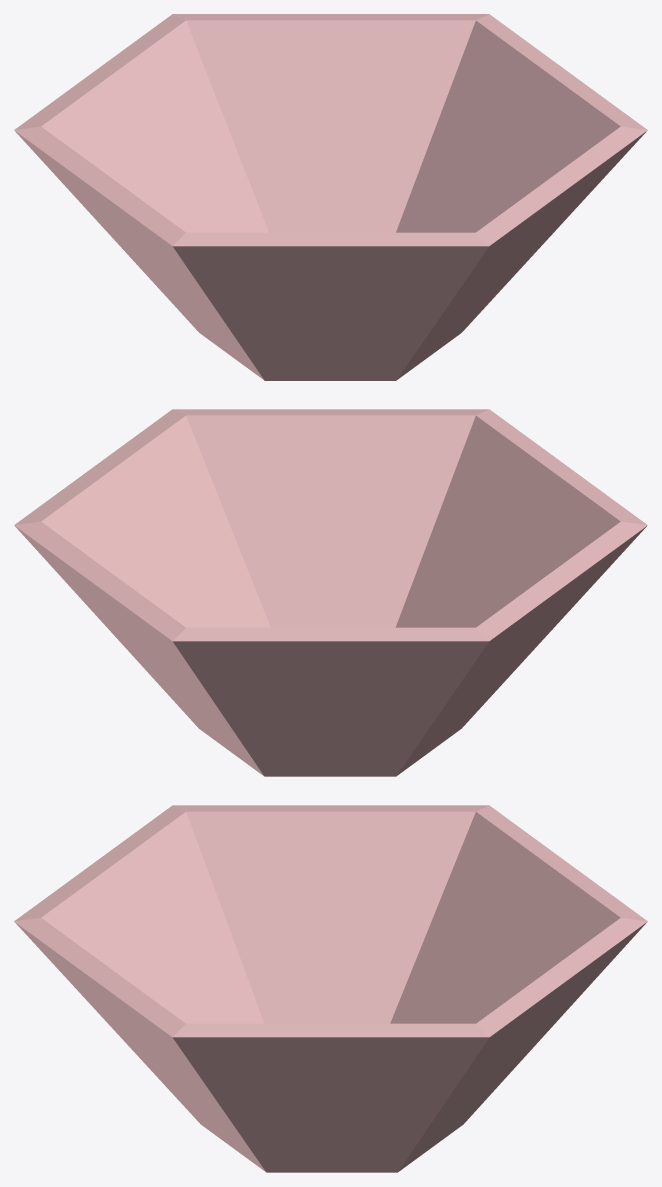
File: BowlSmall.fbx
The picture shows the model from 3 angles, top to bottom: view 1: azimuth 30°, elevation 25°; view 2: azimuth 150°, elevation 25°; view 3: azimuth 270°, elevation 25°; orthographic projection.
Visible parts, largest first — view 1: BowlSmall; view 2: BowlSmall; view 3: BowlSmall.
Boxes of the visible parts, x1,y1,x2,y2 form: BowlSmall: (14, 14, 647, 380); BowlSmall: (14, 409, 647, 776); BowlSmall: (14, 805, 647, 1172).
Bounding box in the file's own units: 0.1511 × 0.1744 × 0.0627.
